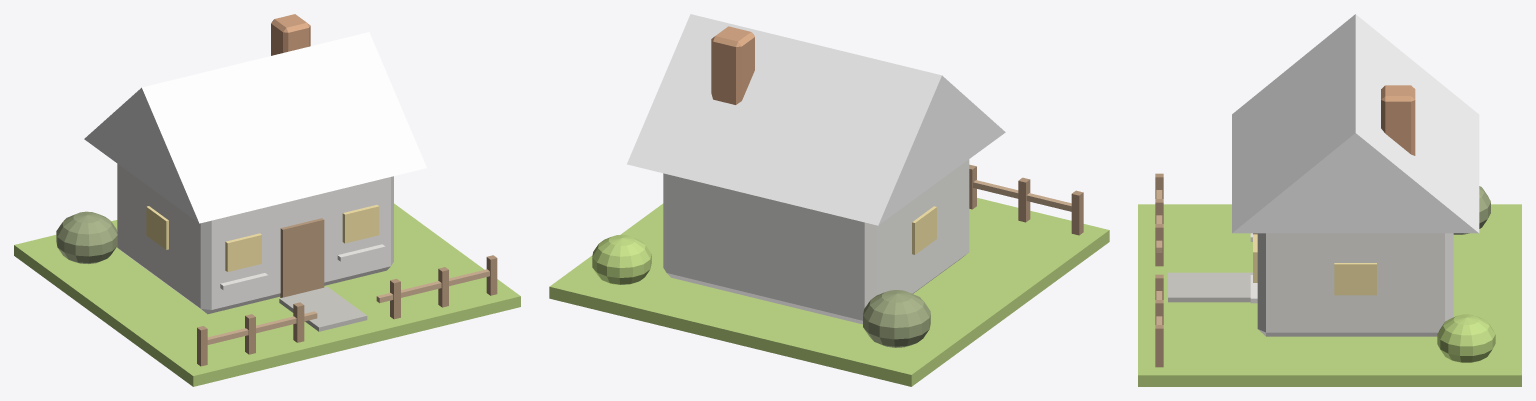
File: house.glb
3 views of the same model, side by side, from view 1: azimuth 30°, elevation 25°; view 2: azimuth 150°, elevation 25°; view 3: azimuth 270°, elevation 25° (orthographic). The views are drawn at different scales.
Visible parts, largest first — view 1: main; view 2: main; view 3: main.
Boxes of the visible parts, x1=… form: main: x1=14, y1=14, x2=520, y2=386; main: x1=549, y1=14, x2=1109, y2=386; main: x1=1138, y1=14, x2=1521, y2=386.
Bounding box in the file's own units: 0.95 × 0.62 × 0.9.
